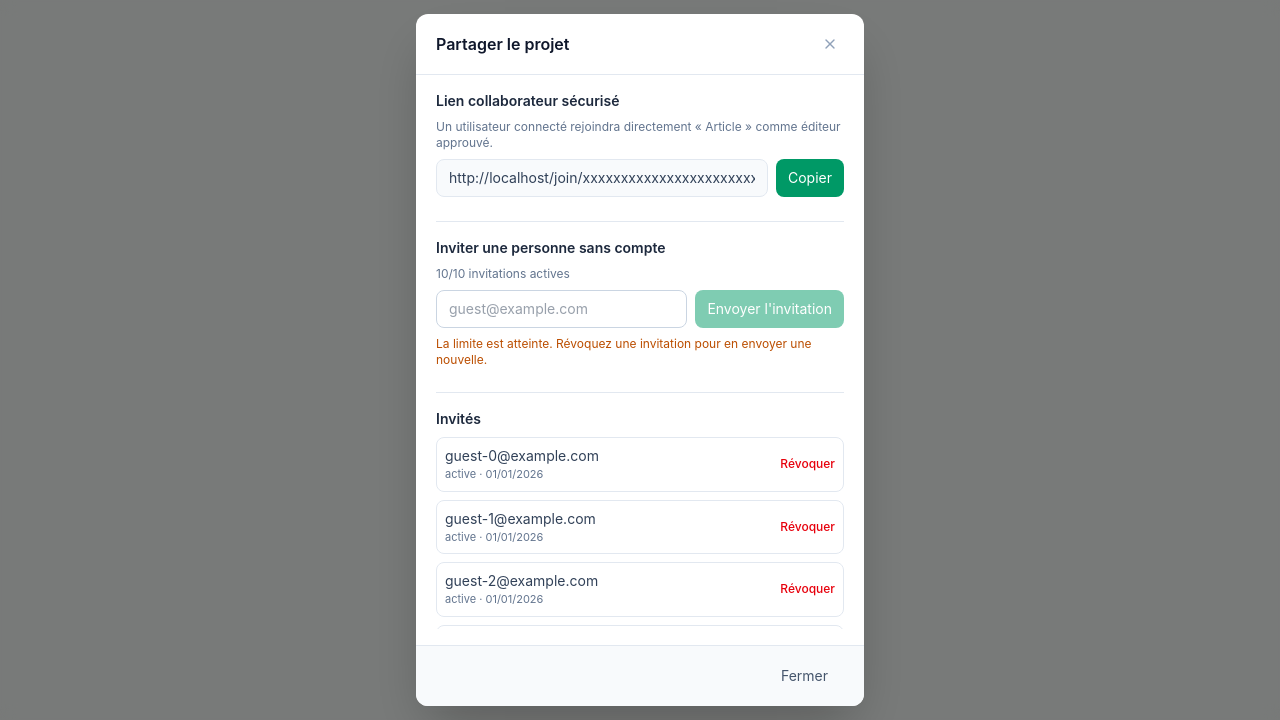
Test case: blocks an eleventh active invitation until one is revoked
This screenshot has width=1280, height=720.
Check: the text "10/10 invitations actives" is shown, box [436,266,570,281]
Check: the field named "Email de l'invité" is disabled, box [436,290,687,328]
Click the button "Révoquer" in the row of "guest-0@example.com": (808, 464) [780,456,835,472]
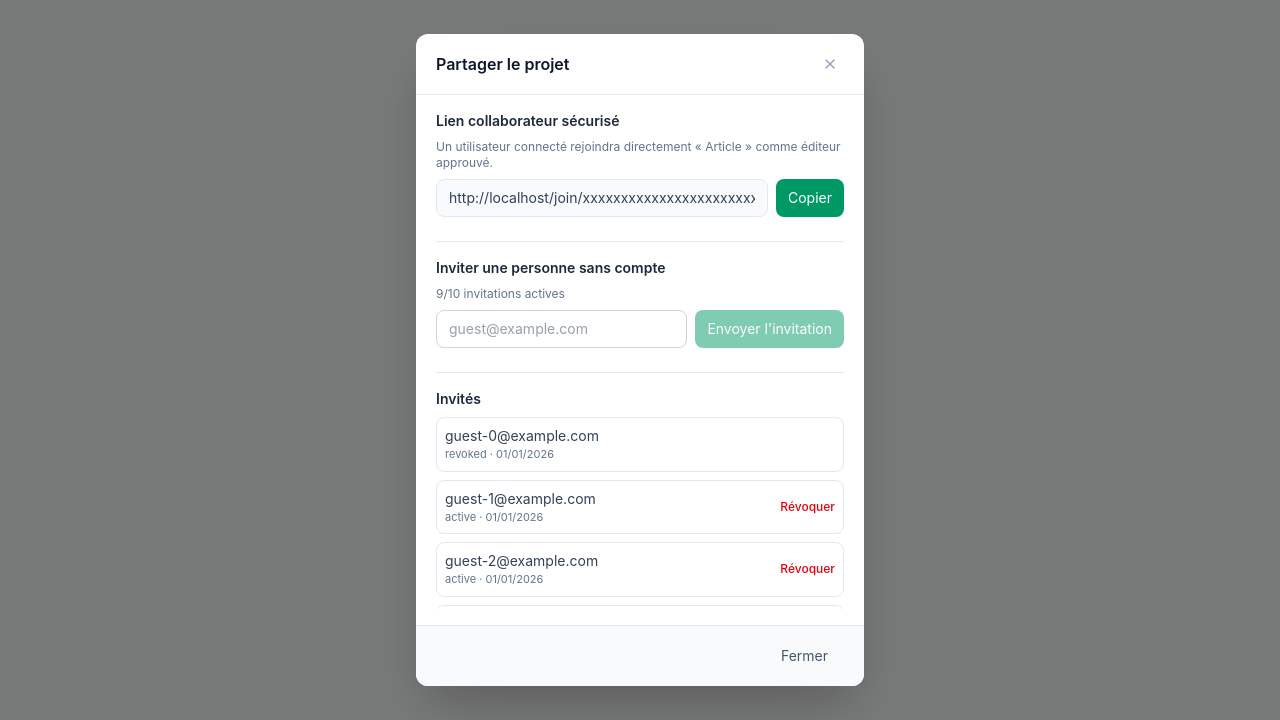
Check: the field named "Email de l'invité" is enabled, box [436,310,687,348]
Check: the text "9/10 invitations actives" is shown, box [436,286,565,301]
